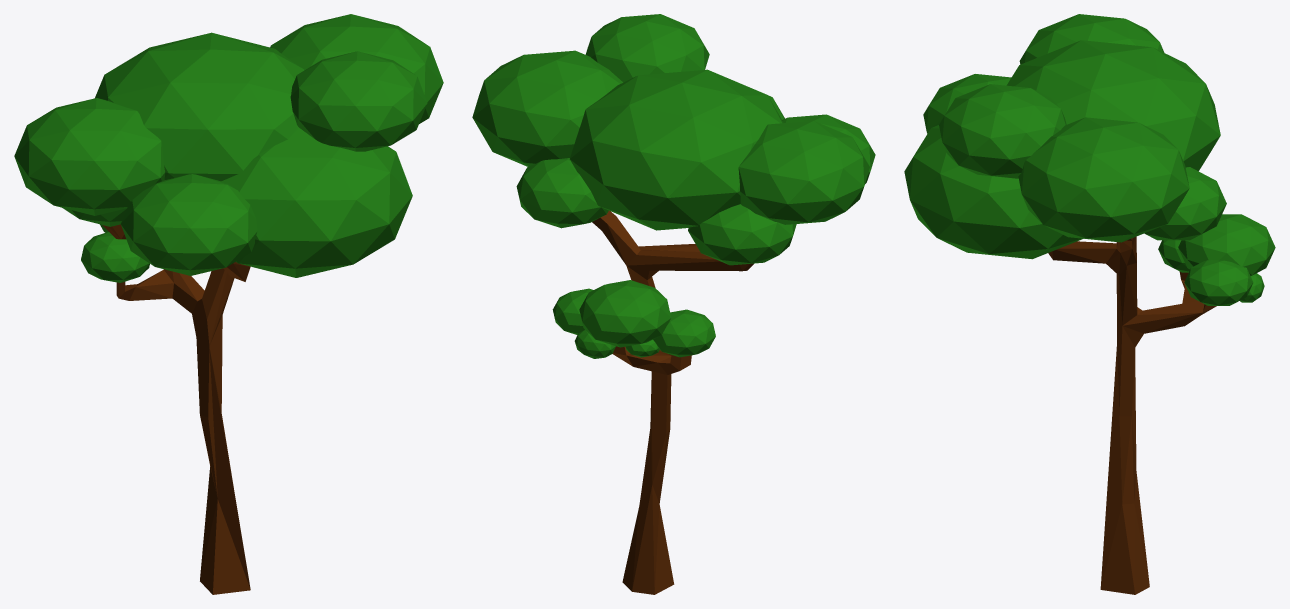
Rendered from Tree.fbx.
3 views of the same model, side by side, from view 1: azimuth 30°, elevation 25°; view 2: azimuth 150°, elevation 25°; view 3: azimuth 270°, elevation 25° (orthographic). The views are drawn at different scales.
Parts seen in each view (by area): view 1: Vert.001, Vert; view 2: Vert.001, Vert; view 3: Vert.001, Vert.
Part boxes in pixels (x1=…): Vert.001: x1=14, y1=14, x2=443, y2=282; Vert: x1=102, y1=224, x2=250, y2=594; Vert.001: x1=472, y1=14, x2=875, y2=358; Vert: x1=592, y1=210, x2=753, y2=594; Vert.001: x1=904, y1=14, x2=1275, y2=305; Vert: x1=1048, y1=236, x2=1216, y2=594.
Bounding box in the file's own units: 700 × 904 × 580.
